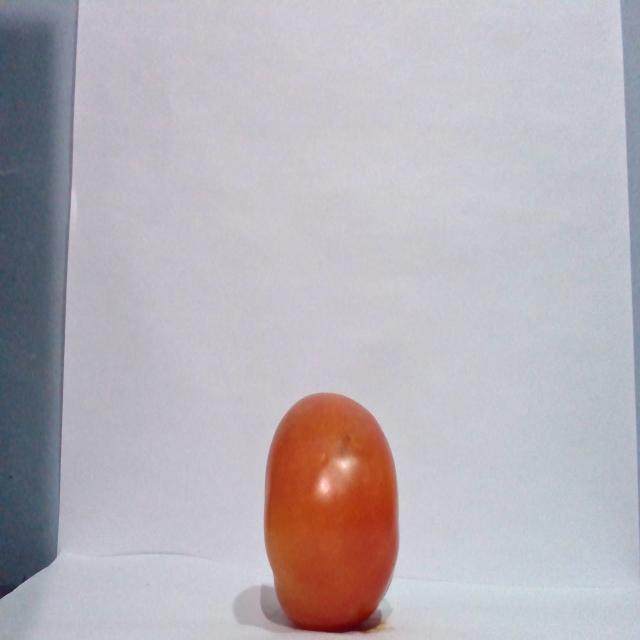Red: (262, 390, 400, 631)
